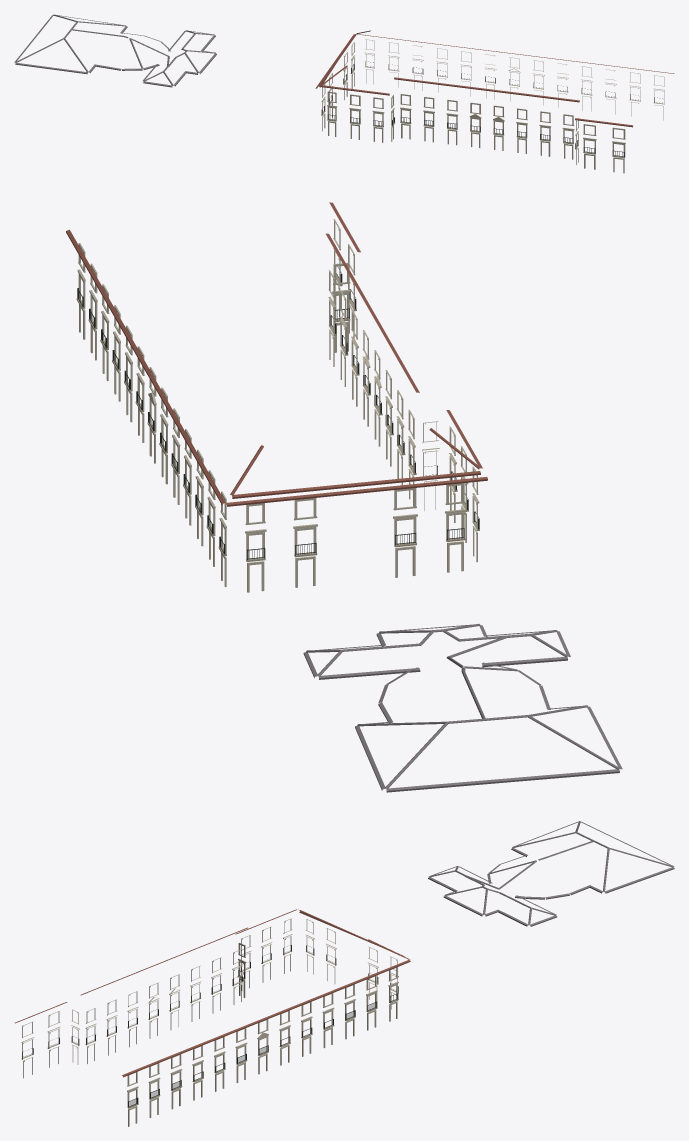
The picture shows the model from 3 angles, top to bottom: view 1: azimuth 30°, elevation 25°; view 2: azimuth 150°, elevation 25°; view 3: azimuth 270°, elevation 25°; orthographic projection. The views are drawn at different scales.
Visible parts, largest first — view 1: detail; view 2: detail; view 3: detail.
Boxes of the visible parts, left/top/right/bottom form: detail: left=14, top=14, right=674, bottom=173; detail: left=66, top=202, right=622, bottom=792; detail: left=15, top=821, right=674, bottom=1126.
Bounding box in the file's own units: 90.51 × 11.73 × 92.55.
